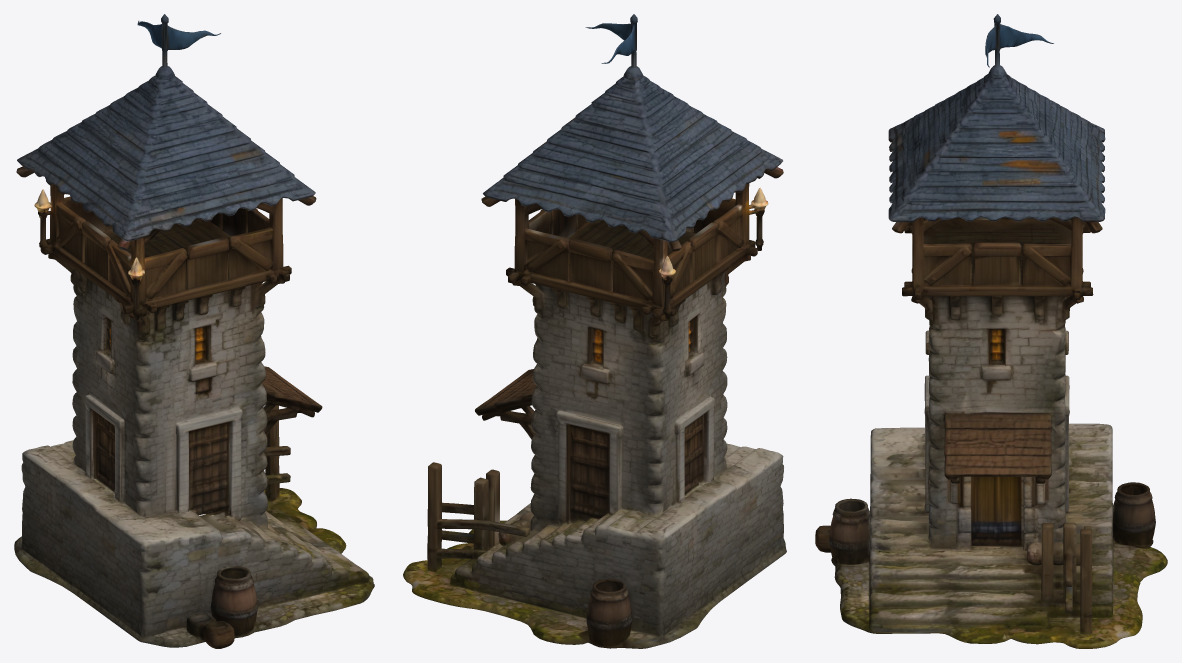
The model's file is torre-vigia.glb.
3 views of the same model, side by side, from view 1: azimuth 30°, elevation 25°; view 2: azimuth 150°, elevation 25°; view 3: azimuth 270°, elevation 25° (orthographic). The views are drawn at different scales.
Parts seen in each view (by area): view 1: material; view 2: material; view 3: material.
Part boxes in pixels (x1,y1,x2,y2): material: [14, 14, 374, 648]; material: [403, 14, 786, 648]; material: [815, 14, 1167, 648].
Size of the model in its own units: 6.21 by 12 by 6.97.
Materials: 1 (1 with a texture image).
